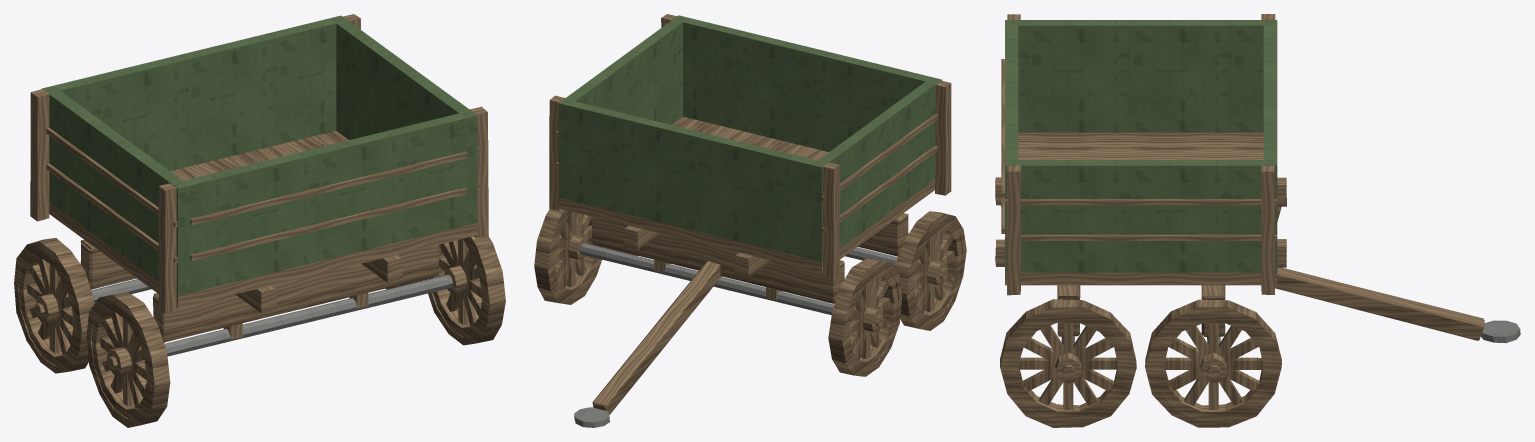
Rendered from wagon_trailer.glb.
3 renders of one model, left to right at view 1: azimuth 30°, elevation 25°; view 2: azimuth 150°, elevation 25°; view 3: azimuth 270°, elevation 25°, orthographic. The views are drawn at different scales.
Parts seen in each view (by area): view 1: WagonTrailer, Tailgate, Wheel_L2, Wheel_L1, Wheel_R2; view 2: WagonTrailer, Tailgate, Wheel_L1, Wheel_L2, Wheel_R1, Coupler; view 3: WagonTrailer, Wheel_R2, Wheel_R1, Tailgate, Coupler.
Boxes of the visible parts, box(x1,y1,x2,y2) form: WagonTrailer: box(30, 14, 488, 356); Tailgate: box(183, 113, 465, 292); Wheel_L2: box(86, 292, 170, 427); Wheel_L1: box(14, 238, 94, 373); Wheel_R2: box(424, 236, 505, 345); WagonTrailer: box(549, 14, 951, 414); Tailgate: box(683, 18, 931, 151); Wheel_L1: box(828, 258, 901, 376); Wheel_L2: box(895, 211, 966, 330); Wheel_R1: box(534, 209, 605, 304); Coupler: box(574, 407, 609, 427); WagonTrailer: box(995, 14, 1484, 344); Wheel_R2: box(1000, 299, 1136, 427); Wheel_R1: box(1145, 299, 1281, 427); Tailgate: box(1005, 25, 1018, 159); Coupler: box(1481, 320, 1520, 343).
Size of the model in its own units: 2.63 by 1.7 by 3.24.
3 materials, 3 textured.
